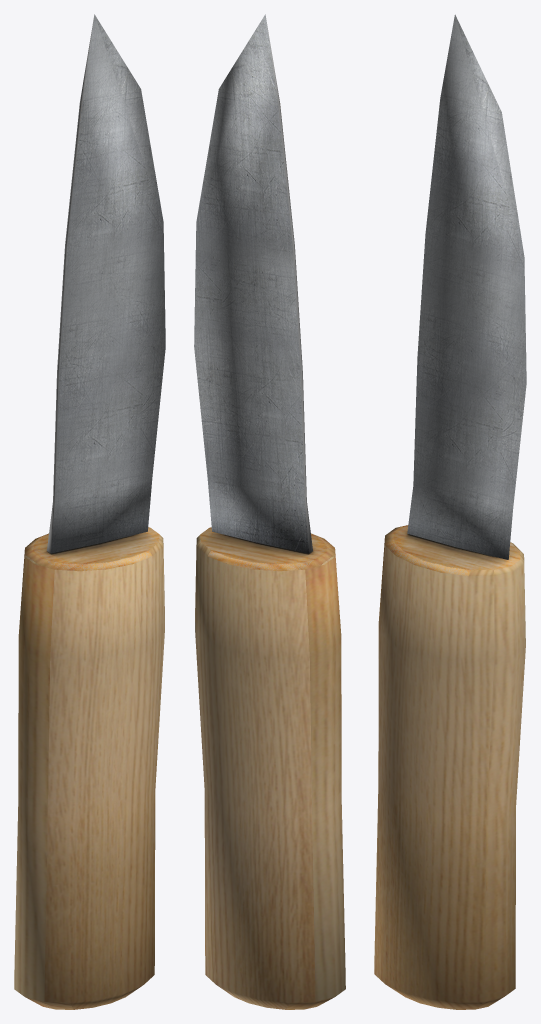
The model's file is Knife.fbx.
3 renders of one model, left to right at view 1: azimuth 30°, elevation 25°; view 2: azimuth 150°, elevation 25°; view 3: azimuth 330°, elevation 25°, orthographic.
Visible parts, largest first — view 1: Plane; view 2: Plane; view 3: Plane.
Boxes of the visible parts, <box> form: Plane: <box>14,14,165,1009</box>; Plane: <box>194,14,345,1009</box>; Plane: <box>374,14,526,1009</box>.
Size of the model in its own units: 1.25 by 8.01 by 0.8202.
1 material, 1 textured.
